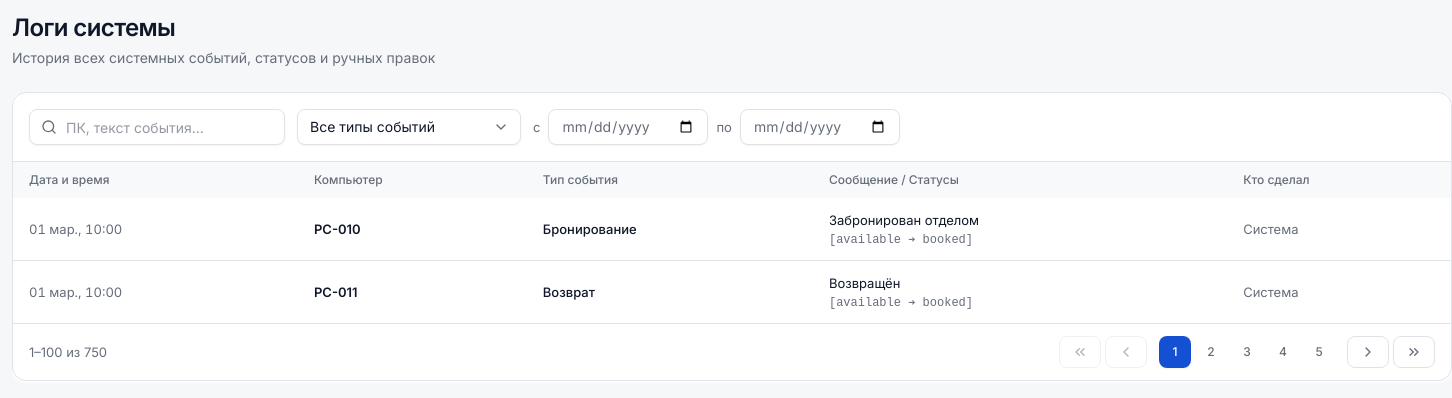
Scenario: EventsPage › таймер поиска после открытия страницы не сбрасывает уже выбранную страницу
Expected: the text "1–100 из 750" is shown, [29,342,107,362]
Click the button named "Следующая страница". click: (1368, 352)
box: [1347,336,1389,368]
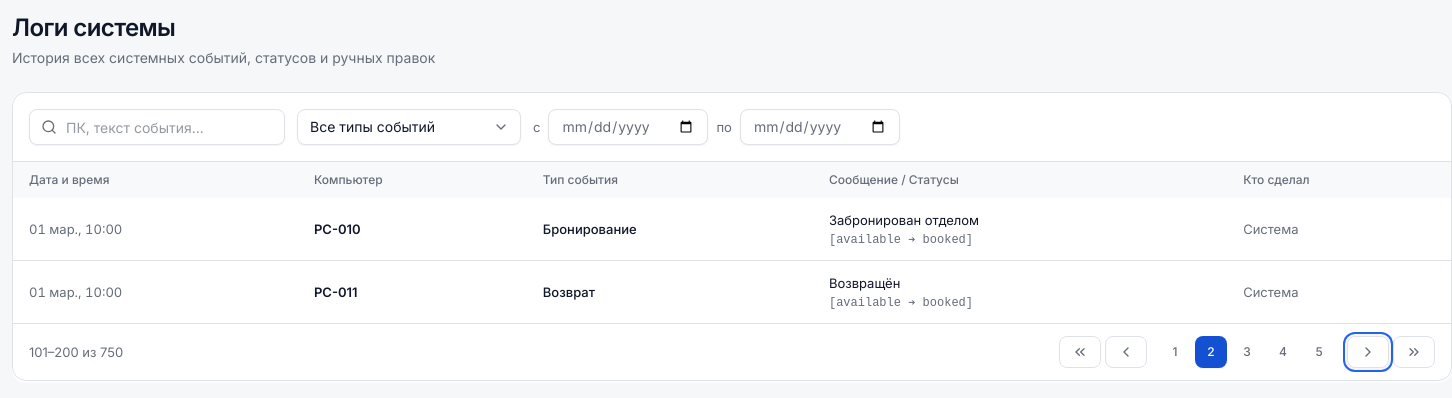
Result: the text "101–200 из 750" is shown at [29,342,123,362]
